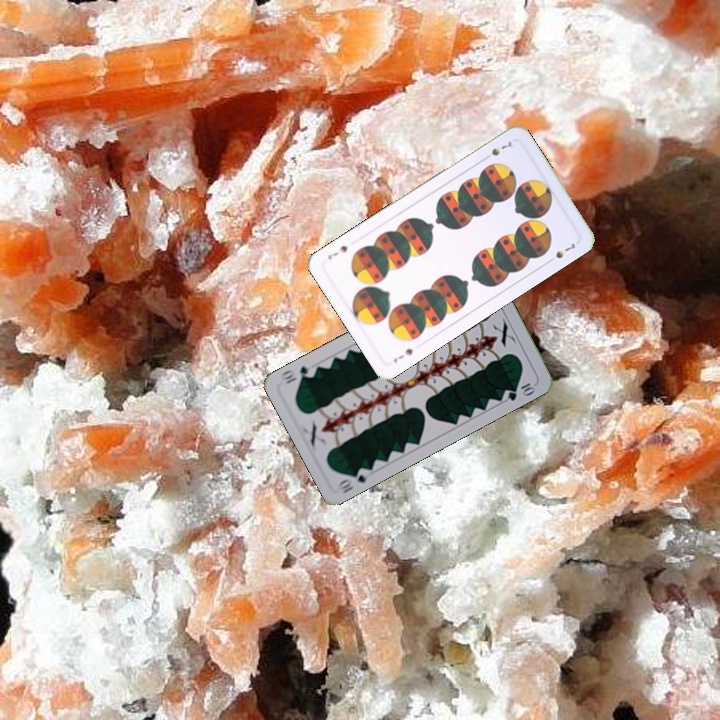G10: (335, 464, 370, 496)
S7: (479, 136, 517, 163), (389, 344, 416, 366)
